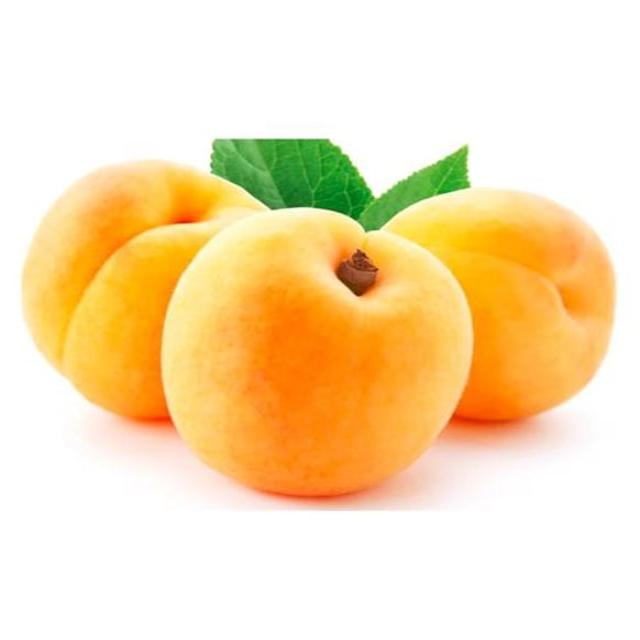kayisi: (222, 222, 446, 494), (421, 195, 618, 411), (54, 159, 214, 420)
yaprak: (214, 136, 478, 226)
